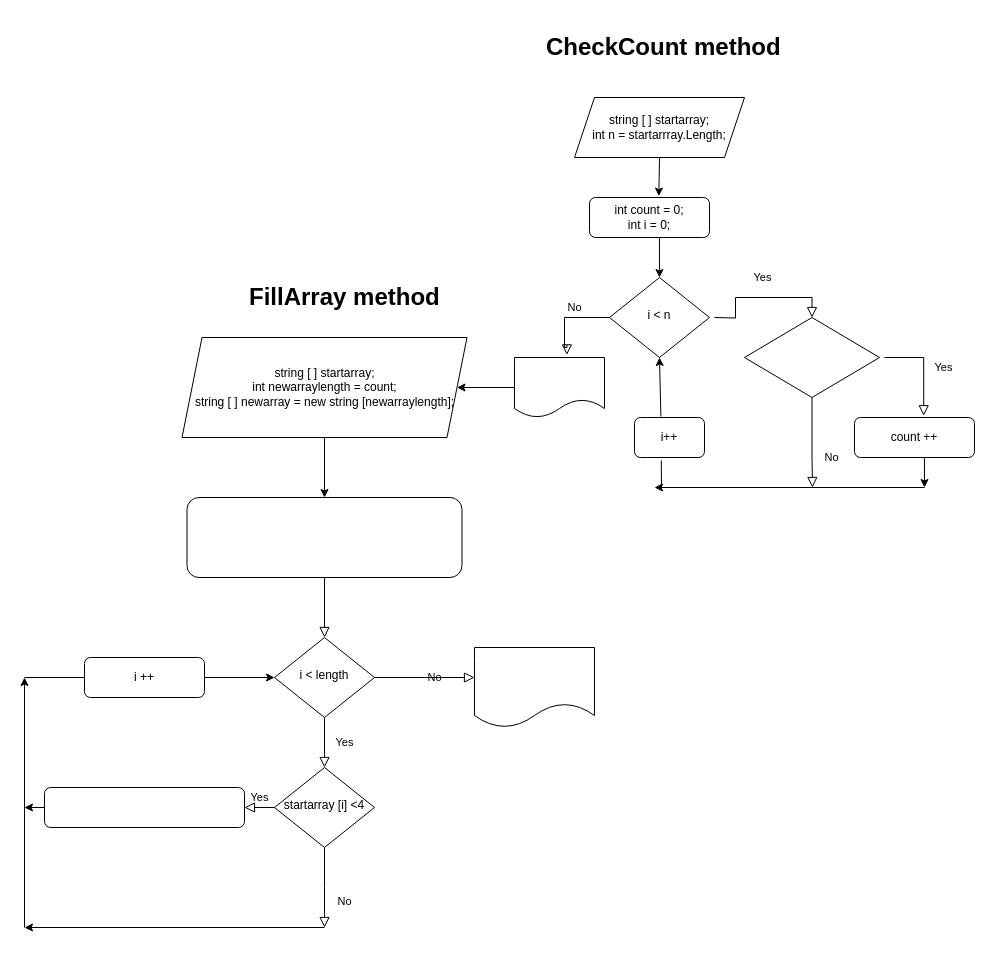
The diagram is 992 pixels wide and 955 high, and some of its shapes have lost their labels. The centre of each missing label's shape, as x and y in pixels:
int position = 0; int i = 0; int length = startarray.Length;: the point at 324,537
newarray [position] =startarray [i]; position ++;: the point at 144,807
Print newarray: the point at 534,687
return count: the point at 559,387
startarray.Length<4: the point at 812,357
